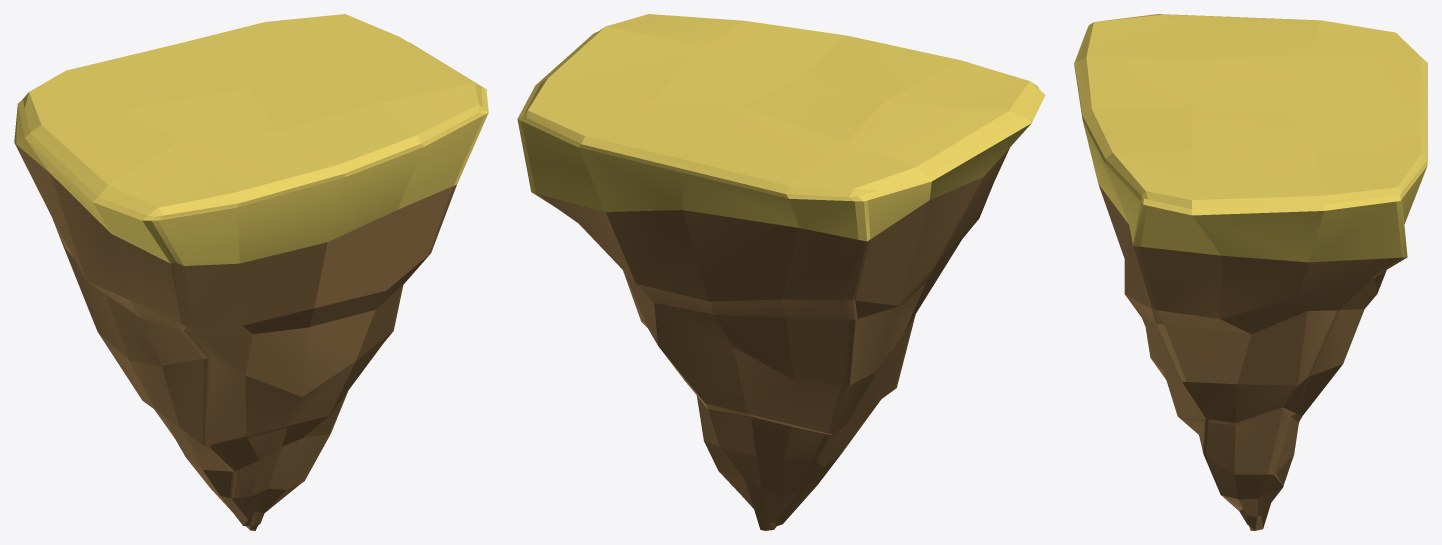
The model's file is Terrain_sable_vf.FBX.
The picture shows the model from 3 angles, left to right: view 1: azimuth 30°, elevation 25°; view 2: azimuth 150°, elevation 25°; view 3: azimuth 270°, elevation 25°; orthographic projection. The views are drawn at different scales.
Parts seen in each view (by area): view 1: Box001; view 2: Box001; view 3: Box001.
Boxes of the visible parts, <box> form: Box001: <box>14,14,488,530</box>; Box001: <box>517,14,1045,530</box>; Box001: <box>1074,14,1427,530</box>.
Bounding box in the file's own units: 629 × 625 × 469.
1 material, 1 textured.
